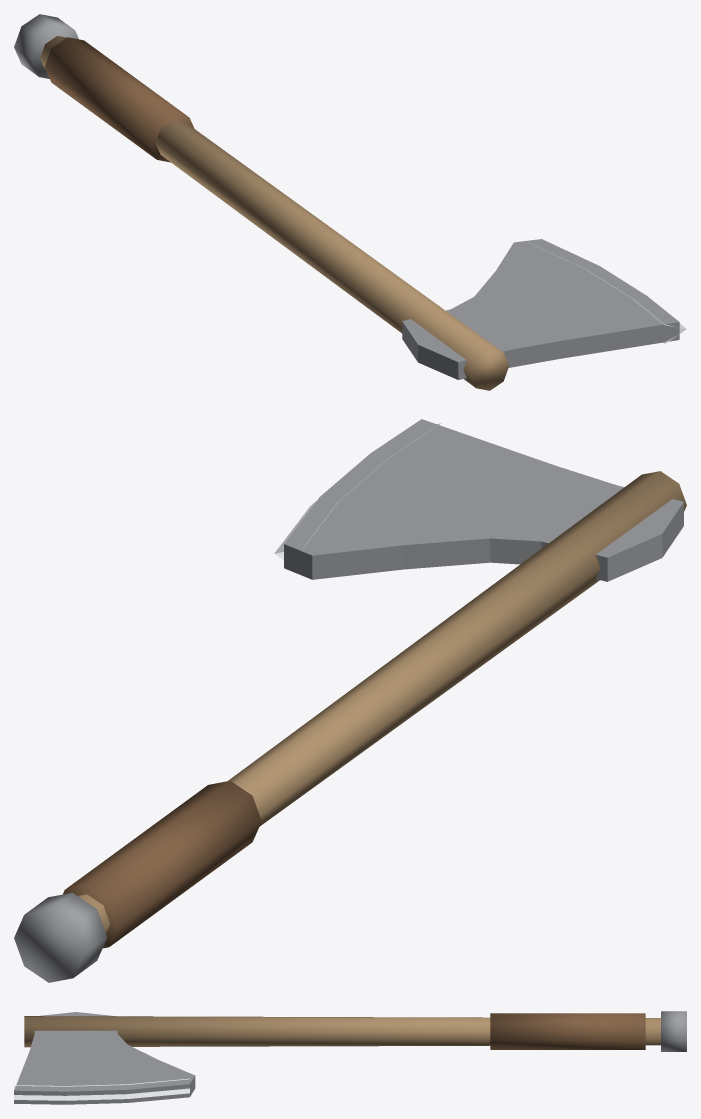
Rendered from axe_sigrun.glb.
3 views of the same model, one above another, from view 1: azimuth 30°, elevation 25°; view 2: azimuth 150°, elevation 25°; view 3: azimuth 270°, elevation 25° (orthographic). The views are drawn at different scales.
Visible parts, largest first — view 1: head, haft, wrap, knob; view 2: head, haft, wrap, knob; view 3: haft, head, wrap, edge, knob.
Part boxes in pixels (box(x1,y1,x2,y2)): head: box(402, 239, 679, 379); haft: box(40, 36, 509, 390); wrap: box(44, 37, 194, 162); knob: box(14, 14, 78, 78); head: box(284, 419, 683, 581); haft: box(78, 471, 686, 933); wrap: box(63, 780, 261, 948); knob: box(14, 892, 107, 982); haft: box(24, 1016, 660, 1047); head: box(14, 1012, 195, 1104); wrap: box(490, 1013, 645, 1049); edge: box(14, 1078, 189, 1100); knob: box(661, 1011, 686, 1051).
Bounding box in the file's own units: 0.188 × 0.042 × 0.65.
